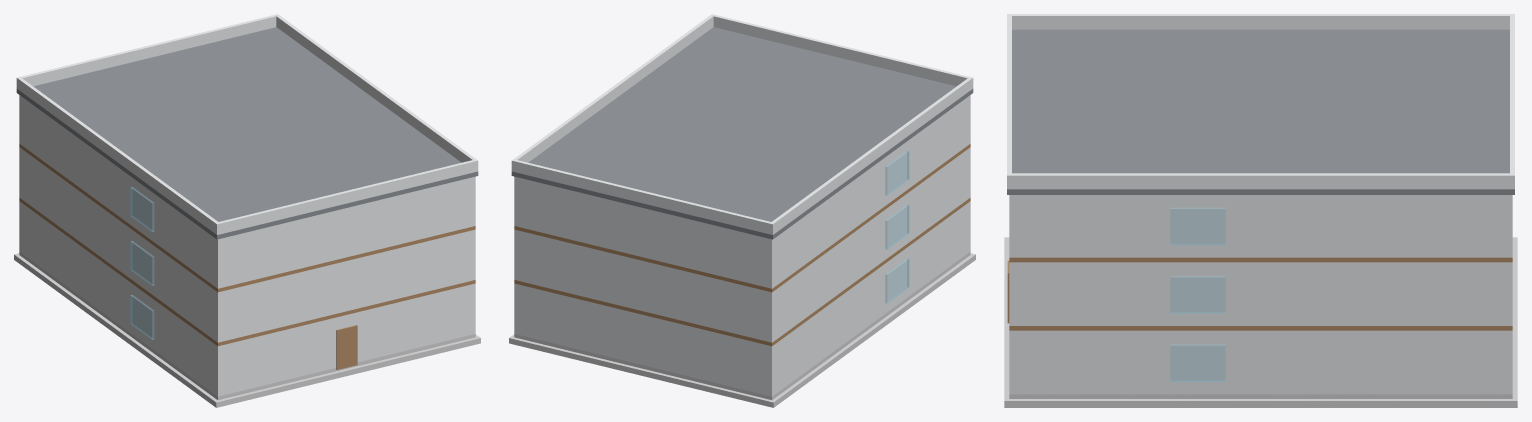
File: AI_Generated_Building_3D.fbx
3 renders of one model, left to right at view 1: azimuth 30°, elevation 25°; view 2: azimuth 150°, elevation 25°; view 3: azimuth 270°, elevation 25°, orthographic. The views are drawn at different scales.
Visible parts, largest first — view 1: AI_RoofSlab, AI_Wall_S_L2, AI_Wall_S_L3, AI_Wall_S_L1, AI_Wall_W_L1, AI_Wall_W_L2, AI_Wall_W_L3, AI_Foundation, AI_RoofParapet_S, AI_RoofParapet_N, AI_RoofParapet_W, AI_RoofParapet_E (+7 smaller); view 2: AI_RoofSlab, AI_Wall_N_L2, AI_Wall_N_L1, AI_Wall_N_L3, AI_Wall_W_L1, AI_Wall_W_L2, AI_Wall_W_L3, AI_Foundation, AI_RoofParapet_N, AI_RoofParapet_S, AI_RoofParapet_W, AI_RoofParapet_E (+6 smaller); view 3: AI_RoofSlab, AI_Wall_E_L1, AI_Wall_E_L2, AI_Wall_E_L3, AI_RoofParapet_E, AI_RoofParapet_W, AI_Foundation, AI_FloorSlab_L3, AI_FloorSlab_L1, AI_FloorSlab_L2, AI_Window_E_L1, AI_Window_E_L2 (+3 smaller).
Part boxes in pixels (x1,y1,x2,y2): AI_RoofSlab: (16, 27, 478, 239); AI_Wall_S_L2: (216, 230, 475, 342); AI_Wall_S_L3: (216, 177, 474, 288); AI_Wall_S_L1: (216, 284, 474, 396); AI_Wall_W_L1: (19, 201, 221, 396); AI_Wall_W_L2: (19, 149, 221, 342); AI_Wall_W_L3: (19, 95, 221, 288); AI_Foundation: (14, 253, 480, 407); AI_RoofParapet_S: (215, 159, 476, 234); AI_RoofParapet_N: (17, 14, 279, 88); AI_RoofParapet_W: (16, 78, 220, 234); AI_RoofParapet_E: (274, 14, 478, 171); AI_RoofSlab: (511, 27, 973, 239); AI_Wall_N_L2: (514, 230, 773, 342); AI_Wall_N_L1: (518, 284, 773, 396); AI_Wall_N_L3: (518, 177, 773, 288); AI_Wall_W_L1: (768, 203, 968, 396); AI_Wall_W_L2: (768, 149, 970, 341); AI_Wall_W_L3: (768, 96, 968, 288); AI_Foundation: (509, 253, 975, 407); AI_RoofParapet_N: (512, 160, 774, 234); AI_RoofParapet_S: (711, 14, 972, 86); AI_RoofParapet_W: (769, 78, 973, 234); AI_RoofParapet_E: (511, 14, 714, 171); AI_RoofSlab: (1007, 29, 1514, 194); AI_Wall_E_L1: (1009, 330, 1512, 394); AI_Wall_E_L2: (1009, 262, 1512, 325); AI_Wall_E_L3: (1009, 195, 1512, 257); AI_RoofParapet_E: (1007, 173, 1514, 189); AI_RoofParapet_W: (1012, 14, 1509, 29); AI_Foundation: (1004, 237, 1517, 407); AI_FloorSlab_L3: (1009, 257, 1512, 262); AI_FloorSlab_L1: (1009, 394, 1512, 398); AI_FloorSlab_L2: (1009, 326, 1512, 330); AI_Window_E_L1: (1170, 344, 1225, 381); AI_Window_E_L2: (1170, 276, 1225, 313).
Size of the model in its own units: 15.4 by 10.15 by 20.4.
